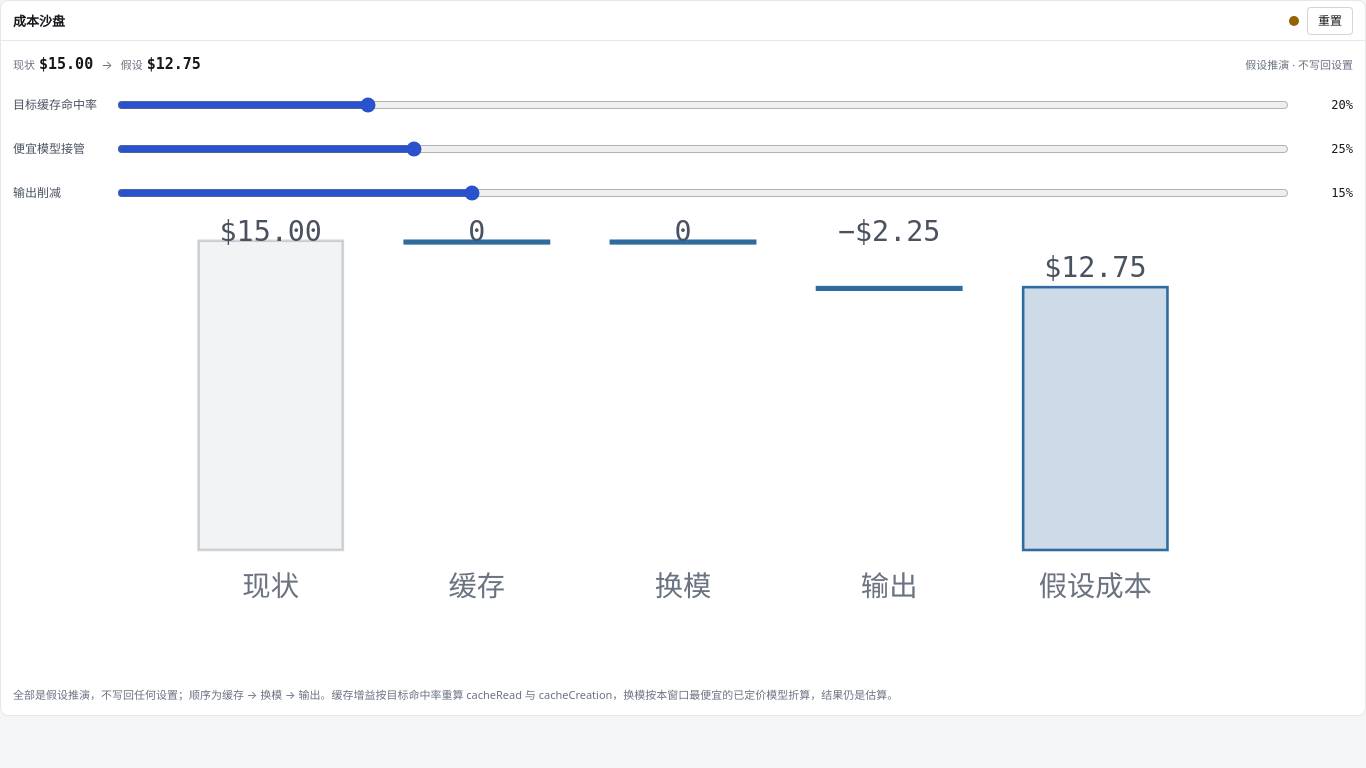
CostSandboxPanel › 输出削减上限 50%：$15 → $7.50
Set the slider named "输出削减比例" to "50" at (1281, 193), box [117,185,1289,201]
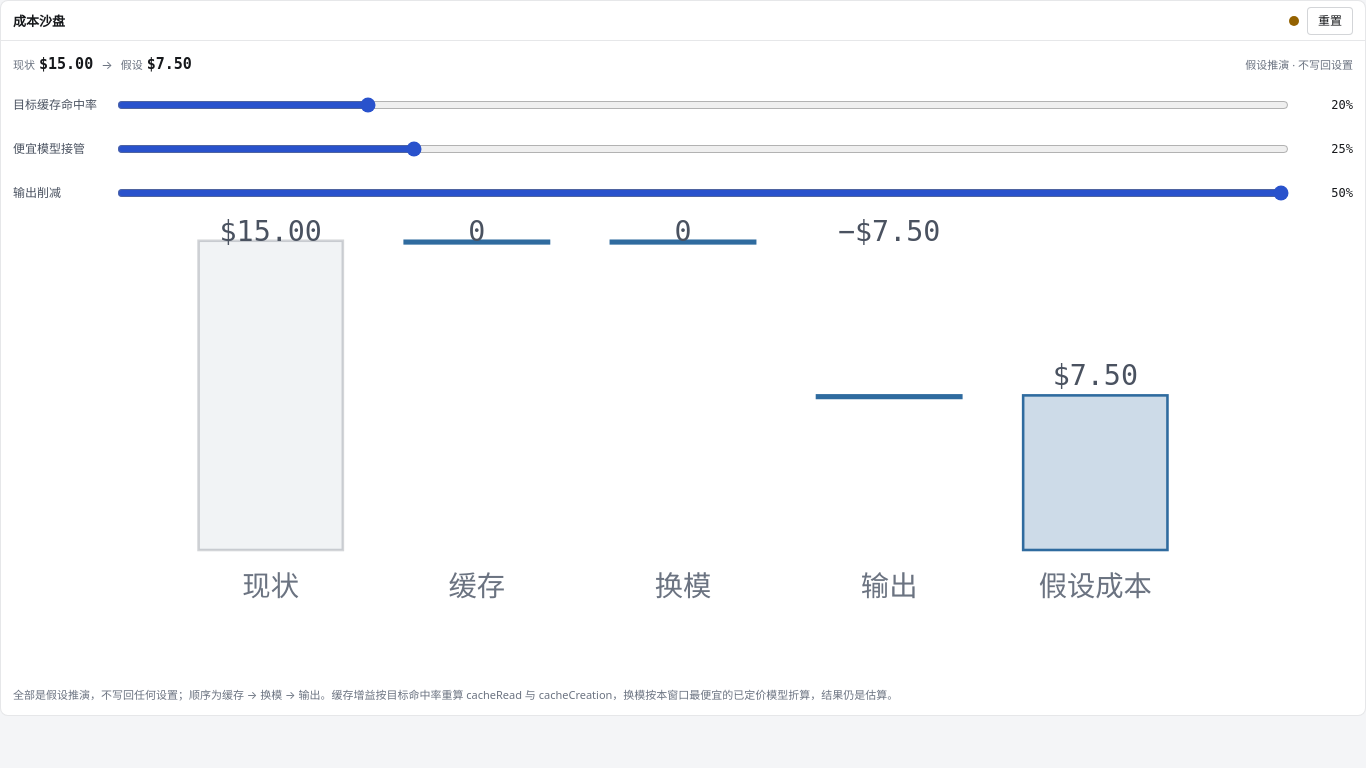
Result: the element showing "现状 $15.00 → 假设 $7.50 假设推演 · 不写回设置" is shown at [13,53,1353,75]
